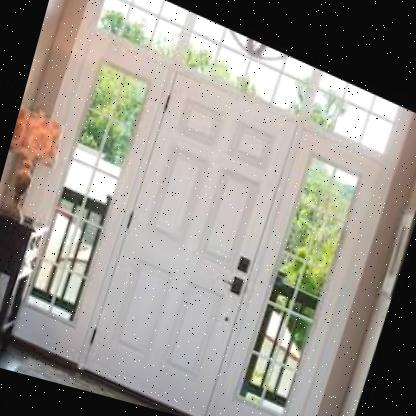door: (71, 53, 314, 416)
